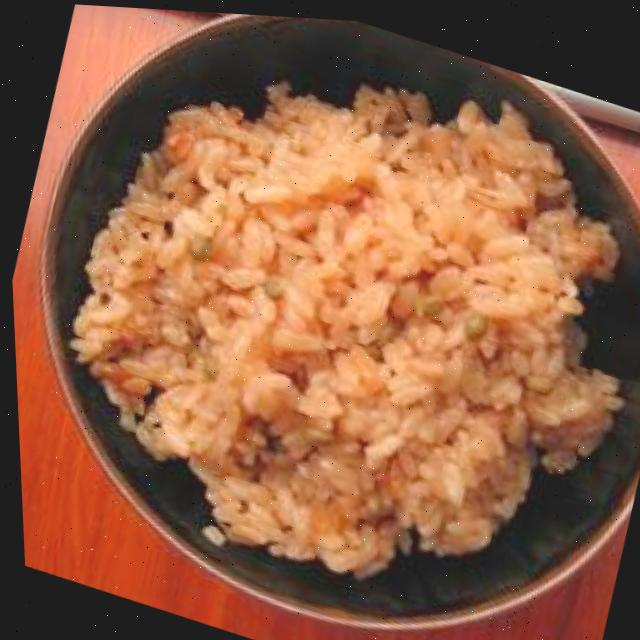米饭主食: (38, 21, 638, 627)
